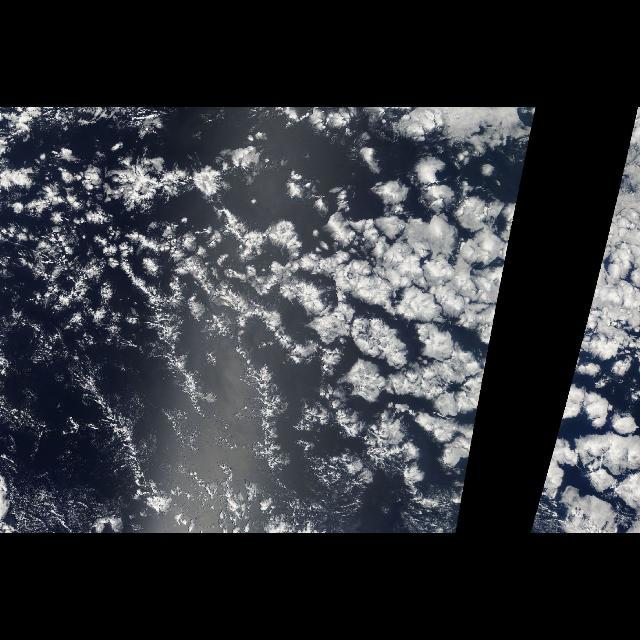Fish: (50, 352, 172, 511)
Flower: (17, 131, 531, 527), (529, 198, 637, 528)
Gravel: (42, 360, 320, 514)
